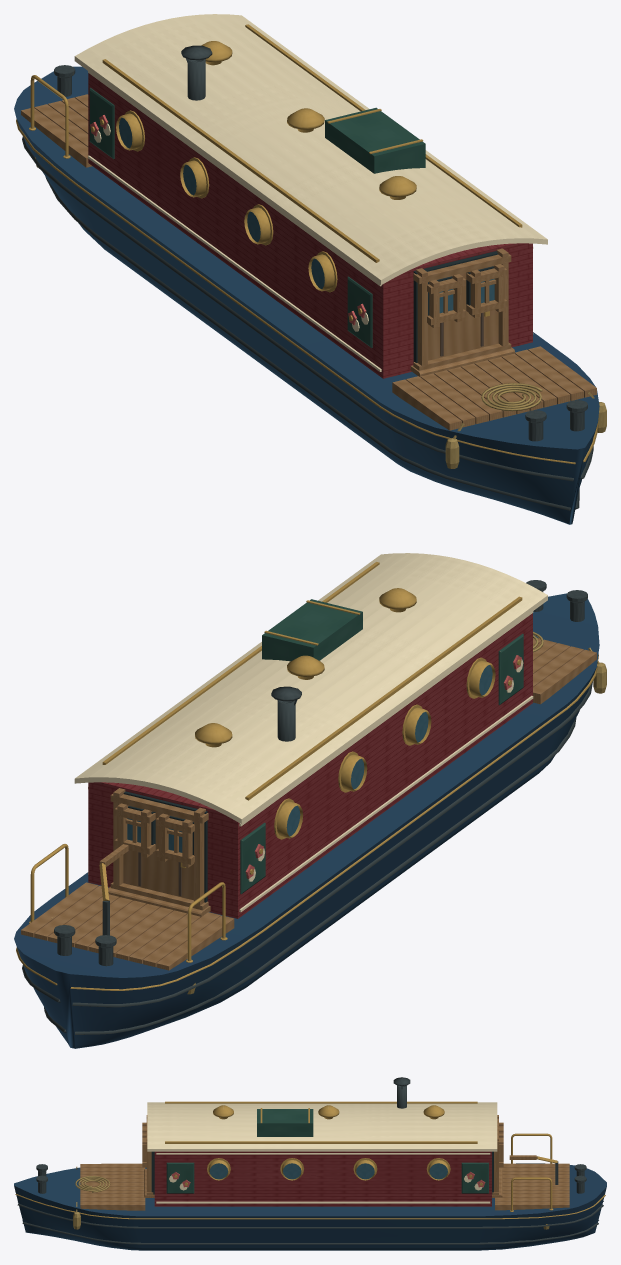
Rendered from canal-boat.glb.
3 renders of one model, top to bottom at view 1: azimuth 30°, elevation 25°; view 2: azimuth 150°, elevation 25°; view 3: azimuth 270°, elevation 25°, orthographic. The views are drawn at different scales.
Parts seen in each view (by area): view 1: Canal-boatBody; view 2: Canal-boatBody; view 3: Canal-boatBody.
Boxes of the visible parts, <box> form: Canal-boatBody: <box>14,14,606,524</box>; Canal-boatBody: <box>14,553,606,1048</box>; Canal-boatBody: <box>14,1077,606,1250</box>.
Size of the model in its own units: 2.71 by 3.39 by 12.95.
Materials: 1 (1 with a texture image).
